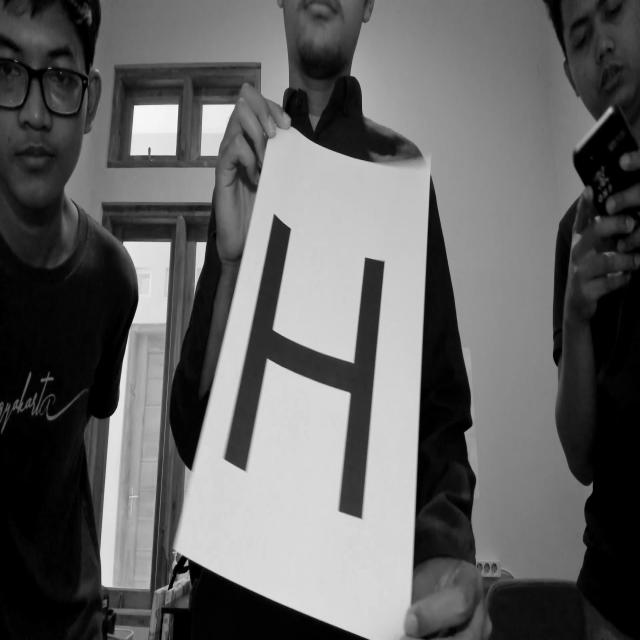h: (217, 204, 393, 541)
